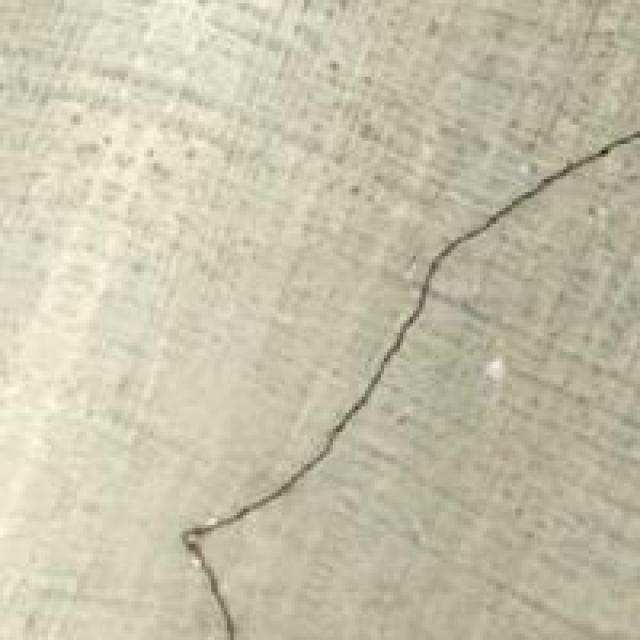crack: (156, 116, 640, 640)
